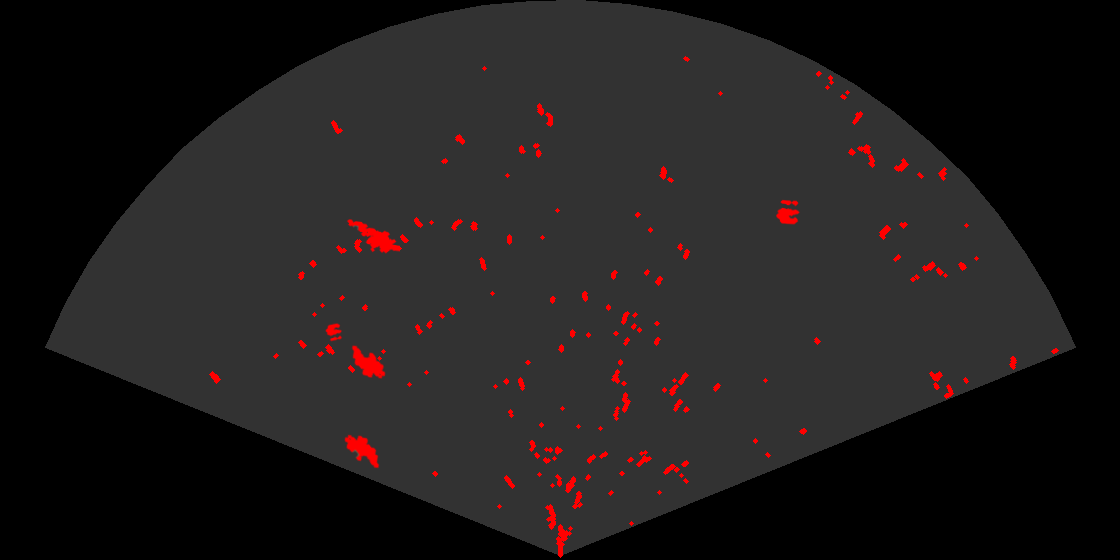AUV: (343, 433, 381, 470), (350, 344, 387, 380)
ball: (775, 198, 801, 226), (324, 321, 344, 343)
frogman: (345, 218, 400, 255)
